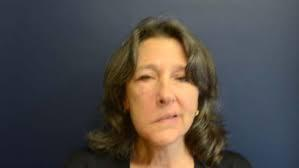strokeMouthSevere: (150, 109, 179, 127)
